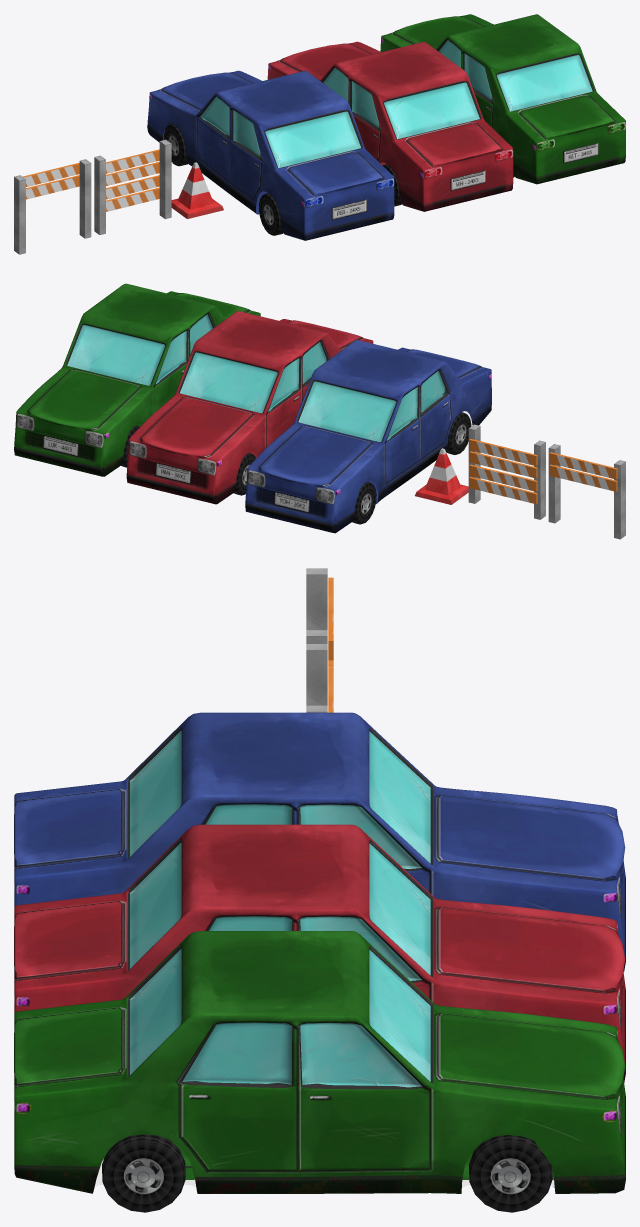
Rendered from Obstaculos_Carro_Cone_Barricadas.FBX.
3 views of the same model, one above another, from view 1: azimuth 30°, elevation 25°; view 2: azimuth 150°, elevation 25°; view 3: azimuth 270°, elevation 25° (orthographic). The views are drawn at different scales.
Visible parts, largest first — view 1: Carro_corpo, Carro_corpo001, Carro_corpo002, Cone, Ferro_Barricada, Ferro_Barricada003, Ferro_Barricada002, Ferro_Barricada001, Madeira_Barricada, Madeira_Barricada001, Madeira_Barricada004, Madeira_Barricada003 (+4 smaller); view 2: Carro_corpo, Carro_corpo001, Carro_corpo002, Cone, Ferro_Barricada001, Madeira_Barricada, Madeira_Barricada002, Madeira_Barricada005, Madeira_Barricada001, Madeira_Barricada003, Madeira_Barricada004, Ferro_Barricada002 (+5 smaller); view 3: Carro_corpo002, Carro_corpo, Carro_corpo001, Tube010, Tube013, Ferro_Barricada001, Ferro_Barricada002, RODA016, RODA015.
Boxes of the visible parts, <box> form: Carro_corpo: <box>147,70,394,240</box>; Carro_corpo001: <box>267,41,513,211</box>; Carro_corpo002: <box>380,14,625,184</box>; Cone: <box>171,162,223,218</box>; Ferro_Barricada: <box>79,159,91,238</box>; Ferro_Barricada003: <box>159,139,171,219</box>; Ferro_Barricada002: <box>94,155,105,234</box>; Ferro_Barricada001: <box>14,175,25,254</box>; Madeira_Barricada: <box>23,162,79,186</box>; Madeira_Barricada001: <box>26,175,79,199</box>; Madeira_Barricada004: <box>106,175,159,199</box>; Madeira_Barricada003: <box>106,149,159,173</box>; Carro_corpo: <box>245,340,491,533</box>; Carro_corpo001: <box>126,311,373,504</box>; Carro_corpo002: <box>14,283,260,476</box>; Cone: <box>415,448,468,504</box>; Ferro_Barricada001: <box>614,460,625,539</box>; Madeira_Barricada: <box>549,452,617,479</box>; Madeira_Barricada002: <box>469,451,537,478</box>; Madeira_Barricada005: <box>469,477,537,504</box>; Madeira_Barricada001: <box>549,464,617,491</box>; Madeira_Barricada003: <box>469,439,537,465</box>; Madeira_Barricada004: <box>469,464,537,491</box>; Ferro_Barricada002: <box>534,440,545,519</box>; Carro_corpo002: <box>14,931,625,1193</box>; Carro_corpo: <box>14,712,625,971</box>; Carro_corpo001: <box>14,824,625,1082</box>; Tube010: <box>102,1134,185,1212</box>; Tube013: <box>469,1135,552,1212</box>; Ferro_Barricada001: <box>306,568,327,629</box>; Ferro_Barricada002: <box>306,644,327,705</box>; RODA016: <box>490,1157,530,1194</box>; RODA015: <box>124,1157,163,1194</box>.
Bounding box in the file's own units: 1318 × 241 × 676.
Materials: 6 (6 with a texture image).
